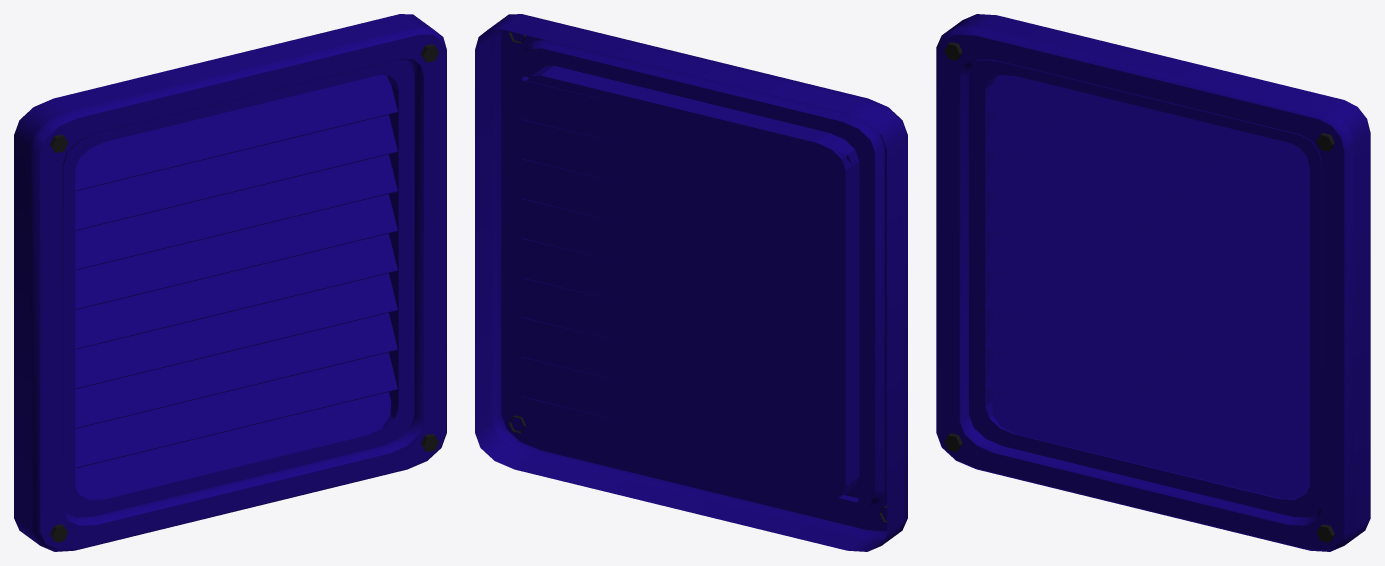
The model's file is Ventilation_Metal_01.FBX.
3 views of the same model, side by side, from view 1: azimuth 30°, elevation 25°; view 2: azimuth 150°, elevation 25°; view 3: azimuth 330°, elevation 25° (orthographic).
Visible parts, largest first — view 1: Ventilation_Metal_01_LOD0; view 2: Ventilation_Metal_01_LOD0; view 3: Ventilation_Metal_01_LOD0.
Boxes of the visible parts, box(x1,y1,x2,y2) form: Ventilation_Metal_01_LOD0: box(14, 14, 446, 551); Ventilation_Metal_01_LOD0: box(475, 14, 907, 551); Ventilation_Metal_01_LOD0: box(936, 14, 1370, 551).
Bounding box in the file's own units: 213 × 216 × 23.
